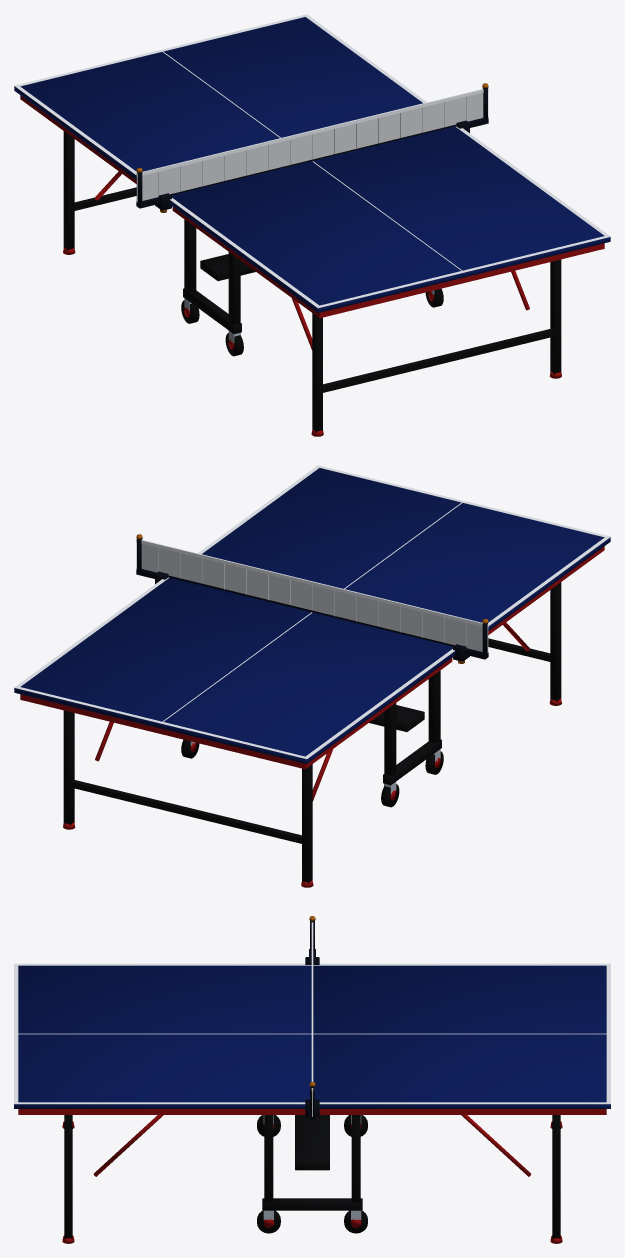
The model's file is cozy_tt_table_indoor_pro.obj.
3 views of the same model, one above another, from view 1: azimuth 30°, elevation 25°; view 2: azimuth 150°, elevation 25°; view 3: azimuth 270°, elevation 25° (orthographic).
Visible parts, largest first — view 1: cozy_tt_table_indoor_pro_Mesh; view 2: cozy_tt_table_indoor_pro_Mesh; view 3: cozy_tt_table_indoor_pro_Mesh.
Part boxes in pixels (box(x1,y1,x2,y2)): cozy_tt_table_indoor_pro_Mesh: box(14, 14, 610, 436); cozy_tt_table_indoor_pro_Mesh: box(14, 465, 610, 887); cozy_tt_table_indoor_pro_Mesh: box(14, 916, 610, 1243).
Bounding box in the file's own units: 1.83 × 0.9325 × 2.74.
